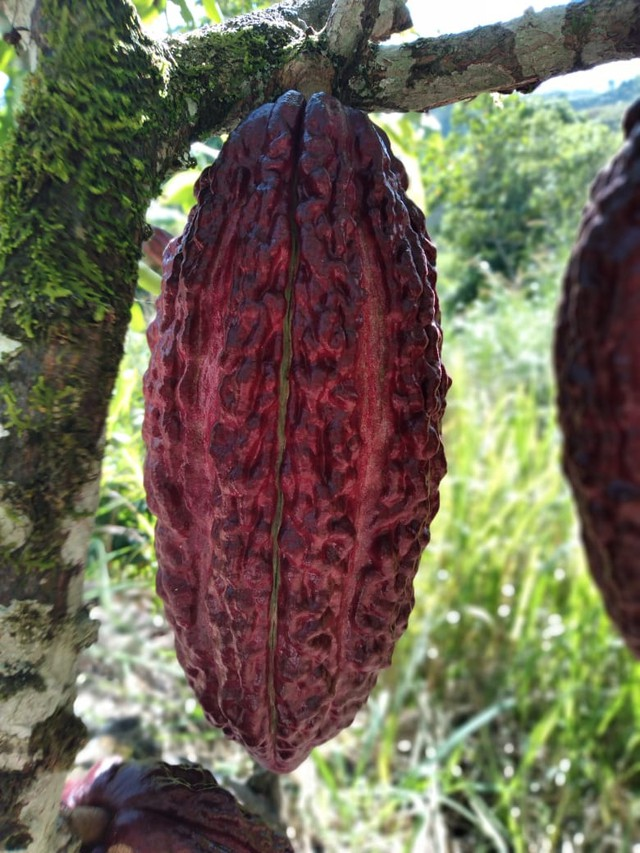Health: (123, 79, 468, 788)
